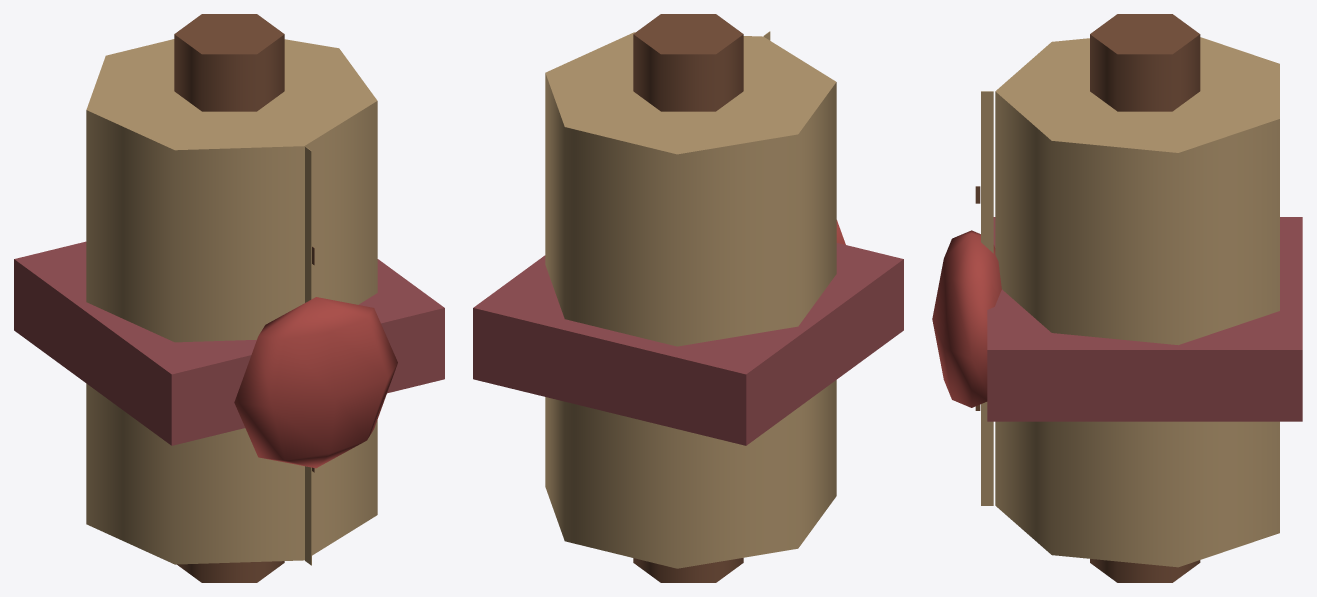
File: scroll-3-lod1.glb
3 views of the same model, side by side, from view 1: azimuth 30°, elevation 25°; view 2: azimuth 150°, elevation 25°; view 3: azimuth 270°, elevation 25° (orthographic).
Parts seen in each view (by area): view 1: piece_whole, ReadingSheet; view 2: piece_whole; view 3: piece_whole, ReadingSheet.
Part boxes in pixels (box(x1,y1,x2,y2)): piece_whole: box(14, 14, 444, 582); ReadingSheet: box(305, 146, 314, 565); piece_whole: box(473, 14, 903, 582); piece_whole: box(932, 14, 1302, 582); ReadingSheet: box(975, 91, 993, 505).
Size of the model in its own units: 0.2 by 0.37 by 0.235.
